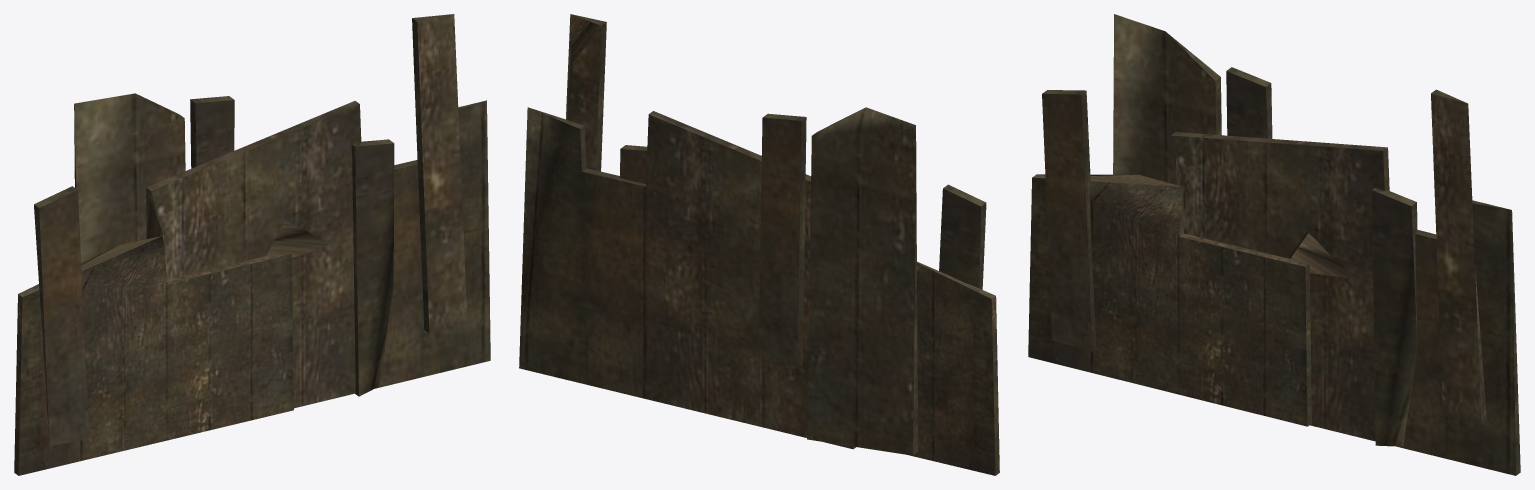
The picture shows the model from 3 angles, left to right: view 1: azimuth 30°, elevation 25°; view 2: azimuth 150°, elevation 25°; view 3: azimuth 330°, elevation 25°; orthographic projection. The views are drawn at different scales.
Visible parts, largest first — view 1: woodwall4; view 2: woodwall4; view 3: woodwall4.
Boxes of the visible parts, bbox=[...] form: woodwall4: bbox=[14, 14, 490, 475]; woodwall4: bbox=[519, 14, 999, 475]; woodwall4: bbox=[1028, 14, 1520, 475].
Bounding box in the file's own units: 4.13 × 3 × 0.2721.
Materials: 1 (1 with a texture image).
